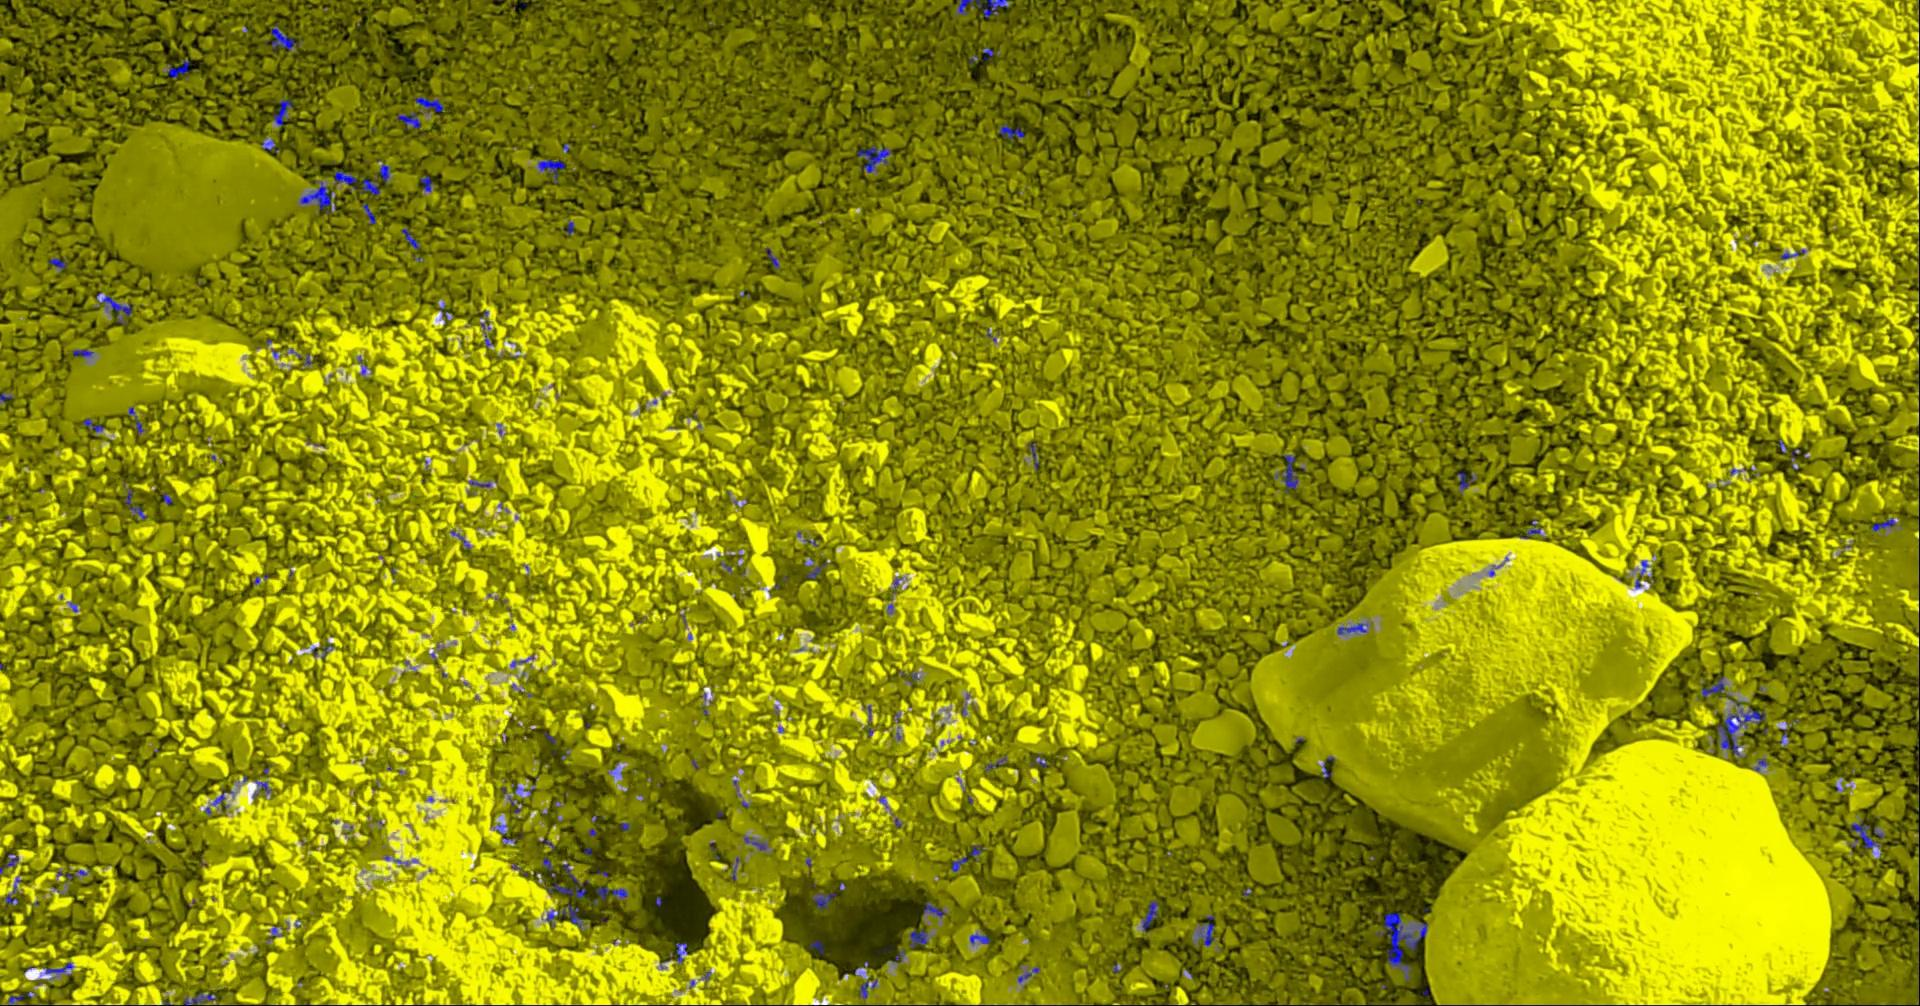ant: (1718, 694, 1768, 756), (397, 97, 446, 130), (547, 862, 590, 898), (301, 179, 337, 213), (335, 170, 382, 196), (99, 293, 135, 324), (265, 25, 303, 52), (1275, 453, 1299, 493), (547, 903, 584, 929), (858, 145, 893, 171), (957, 0, 1010, 17), (1850, 823, 1881, 848), (127, 488, 149, 520), (538, 159, 566, 183), (1199, 915, 1217, 946), (1143, 899, 1161, 930), (274, 99, 295, 124), (1001, 121, 1026, 141), (808, 558, 830, 579), (1703, 674, 1726, 696), (597, 885, 629, 901), (813, 892, 838, 911), (47, 962, 75, 978), (168, 58, 190, 77), (184, 992, 218, 1005), (9, 989, 37, 1005), (403, 227, 422, 249), (1458, 471, 1477, 493), (212, 788, 235, 805), (6, 878, 22, 904), (58, 869, 90, 882), (924, 901, 949, 917), (1521, 520, 1542, 539), (1, 854, 20, 874), (84, 418, 105, 436), (910, 929, 930, 948), (766, 246, 781, 269), (1338, 622, 1369, 634), (1018, 967, 1041, 982), (1873, 517, 1897, 531), (861, 978, 877, 998), (745, 836, 768, 850), (673, 942, 690, 962), (363, 202, 377, 224), (378, 163, 392, 183), (1030, 442, 1040, 469), (952, 855, 968, 871), (1031, 753, 1049, 767), (255, 779, 273, 793), (543, 857, 557, 875), (50, 257, 69, 269), (971, 843, 985, 860), (264, 138, 279, 152), (811, 939, 825, 954), (971, 934, 992, 944), (74, 348, 95, 357), (422, 175, 433, 191), (983, 47, 996, 58)
